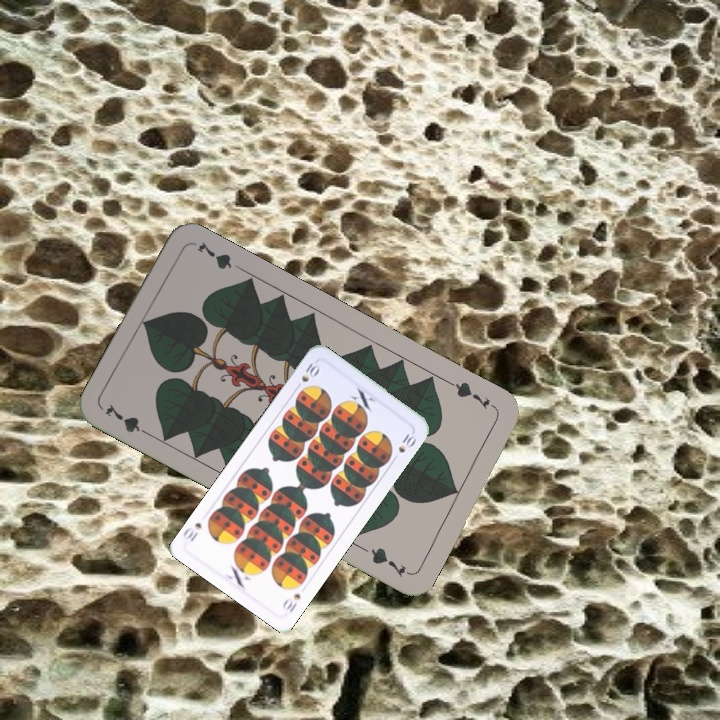G7: (101, 399, 155, 440), (445, 377, 493, 411)
S10: (291, 358, 323, 393), (278, 589, 303, 615)
